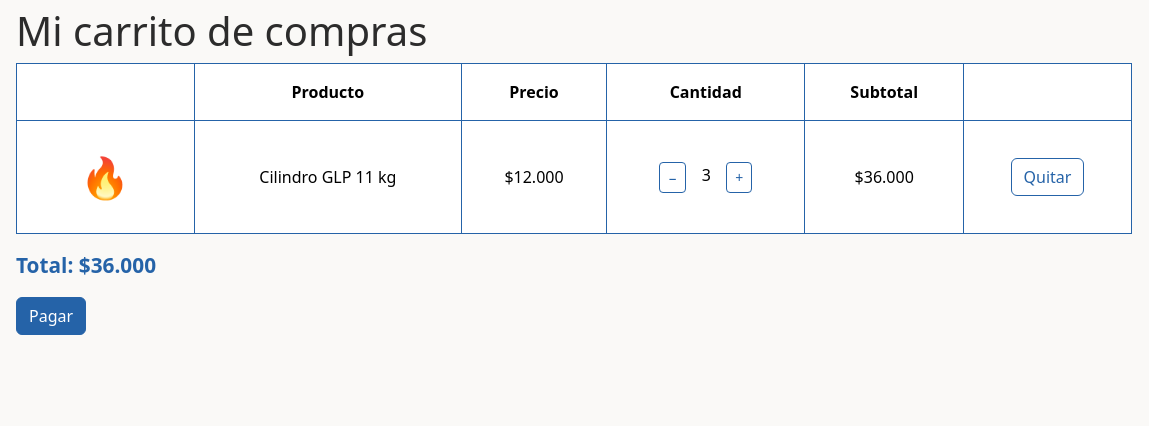
Carrito: botón "Pagar" (crea el pedido en el backend) › si el backend responde que no hay stock, muestra el mensaje y NO vacía el carrito
The image size is (1149, 426).
Click the button "Pagar" at (51, 316), box [16, 297, 86, 335]
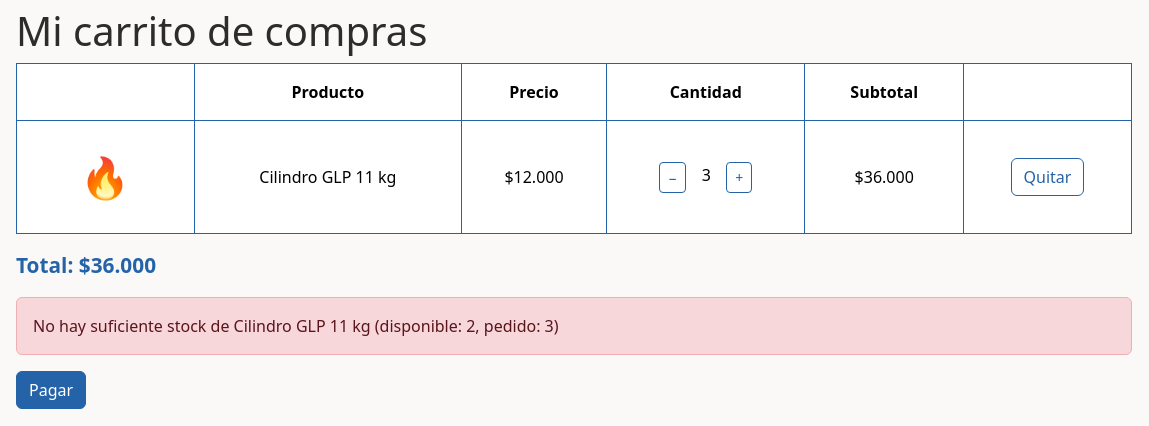
expect the text "No hay suficiente stock de Cilindro GLP 11 kg (disponible: 2, pedido: 3)" is shown: met, box [16, 297, 1132, 355]
